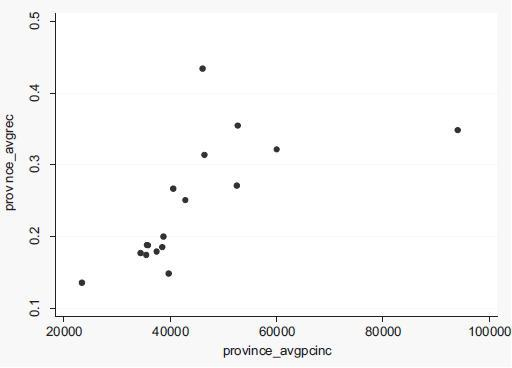axis: (49, 310, 501, 323), (47, 11, 61, 321)
point: (230, 180, 243, 191), (196, 63, 208, 74), (453, 122, 463, 135), (199, 149, 211, 159), (164, 267, 174, 279), (233, 120, 244, 130), (272, 145, 282, 154), (168, 184, 178, 193), (181, 196, 191, 205), (158, 232, 168, 241), (141, 251, 151, 260), (152, 247, 162, 256), (143, 241, 154, 249), (158, 243, 168, 251), (136, 249, 145, 257), (78, 278, 86, 287)
